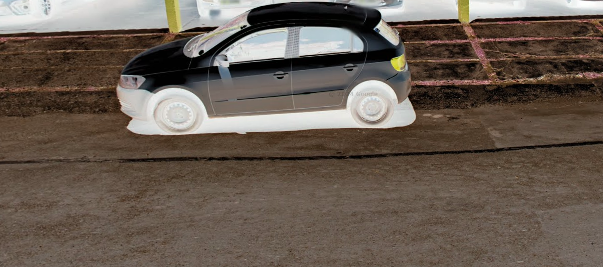car: (114, 2, 418, 128)
